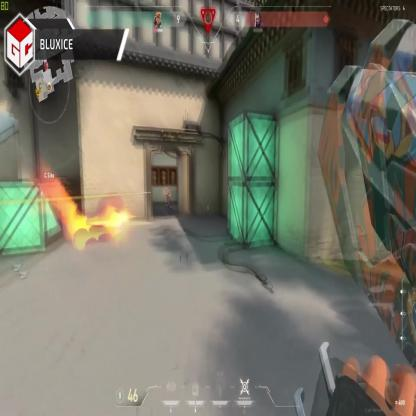enemy: (165, 188, 172, 217)
enemy_head: (166, 188, 170, 193)
